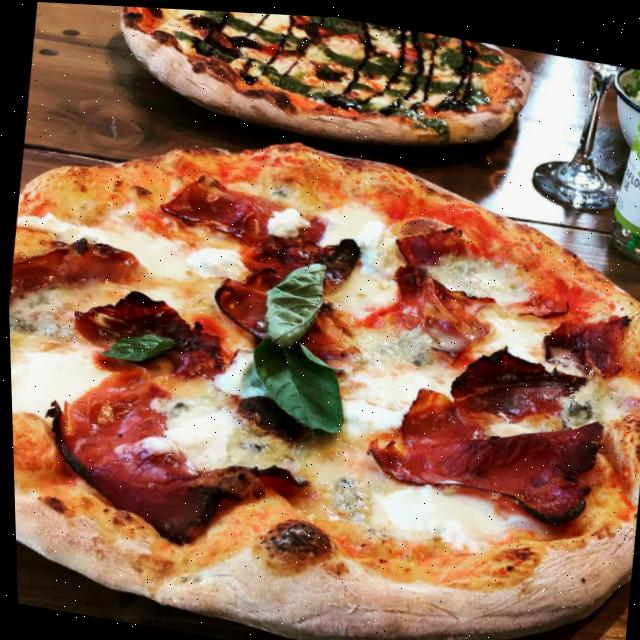basil: (242, 332, 352, 435), (257, 248, 330, 352), (94, 324, 174, 368)
pizza: (2, 97, 640, 640), (107, 4, 536, 167)
